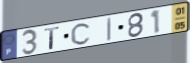1: (149, 8, 161, 35)
3: (21, 27, 39, 57)
8: (127, 11, 145, 38)
C: (70, 22, 93, 46)
I: (106, 16, 113, 42)
T: (43, 25, 62, 51)
